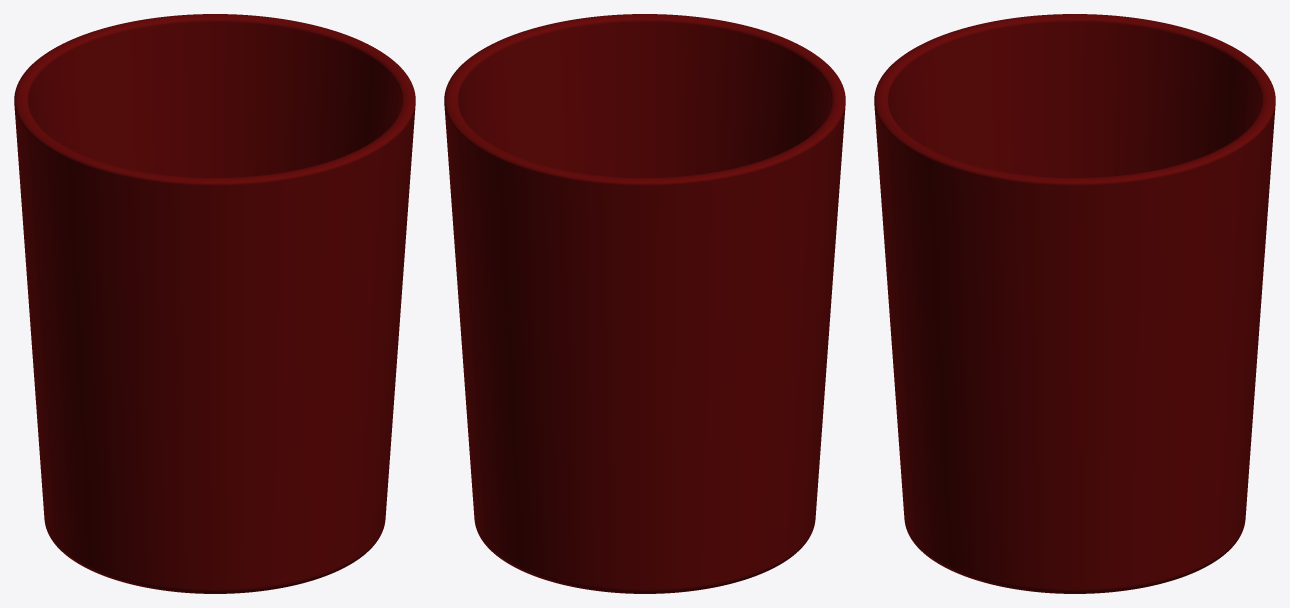
The picture shows the model from 3 angles, left to right: view 1: azimuth 30°, elevation 25°; view 2: azimuth 150°, elevation 25°; view 3: azimuth 270°, elevation 25°; orthographic projection.
Size of the model in its own units: 0.085 by 0.0999 by 0.085.
